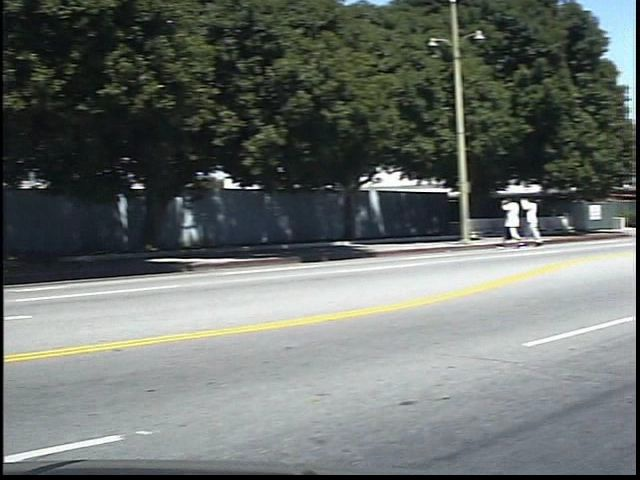person: (514, 190, 539, 253), (535, 192, 561, 252)
